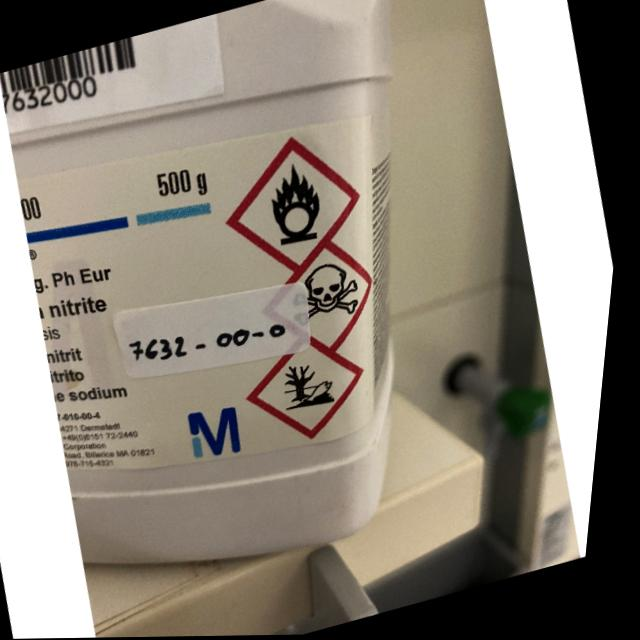acute toxicity: (290, 256, 374, 331)
hazardous to the environment: (276, 354, 349, 419)
oxidising: (259, 158, 337, 253)
